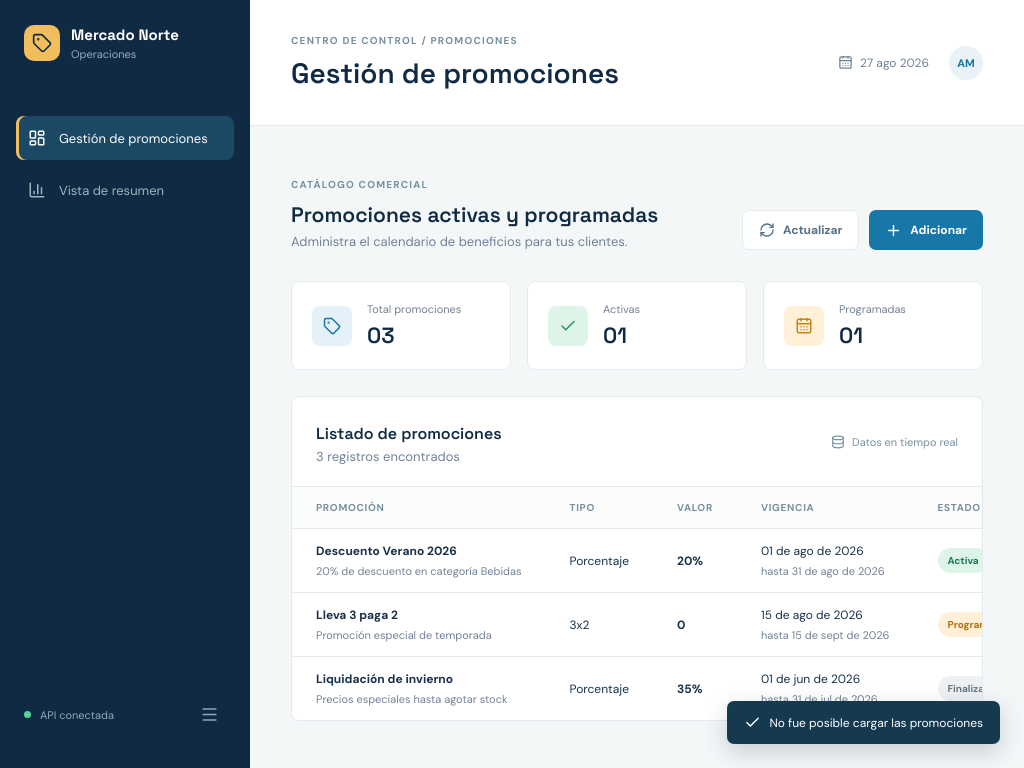
Test: App › shows required errors when saving an empty promotion
Step 1. Click the button "Adicionar" → (926, 230), box x1=869 y1=210 x2=983 y2=250
(page scrolled)
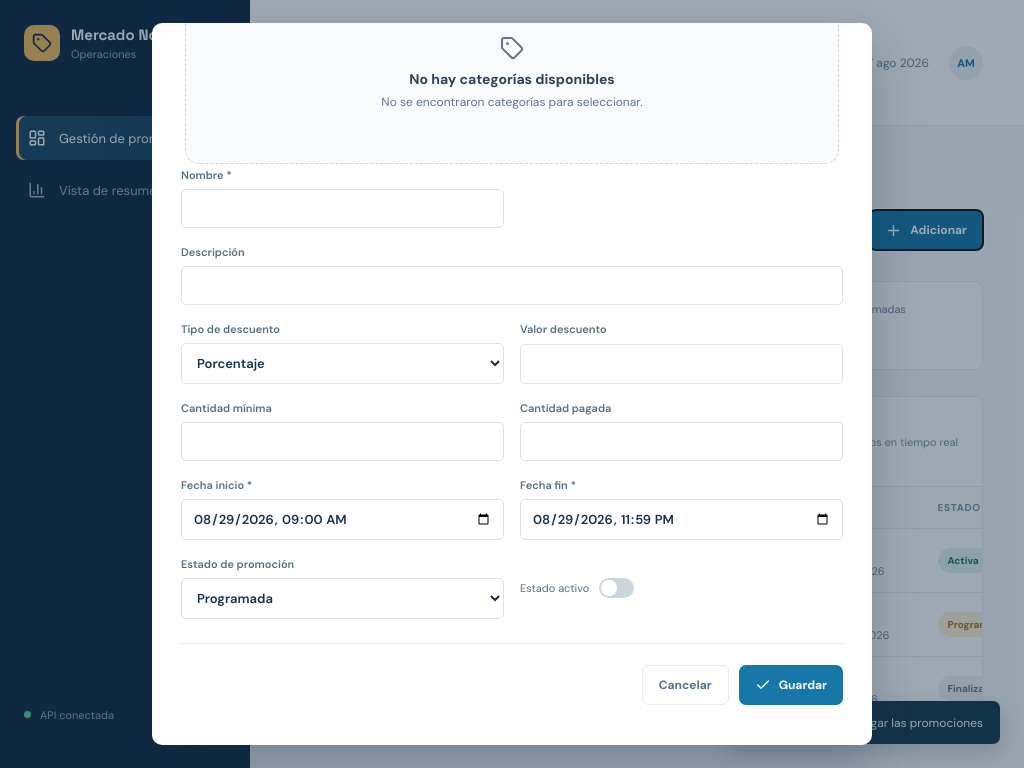
Step 2. Clear the field labelled "Fecha inicio *" → (342, 519), box x1=181 y1=499 x2=504 y2=540
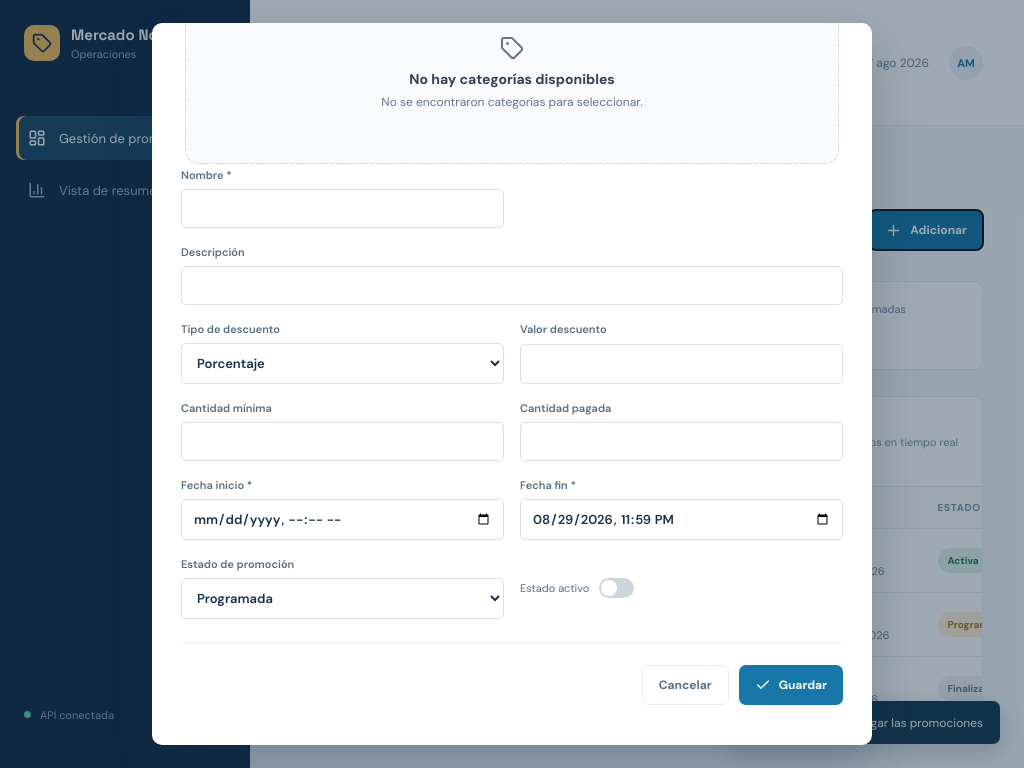
Step 3. Clear the field labelled "Fecha fin *" → (682, 519), box x1=520 y1=499 x2=843 y2=540
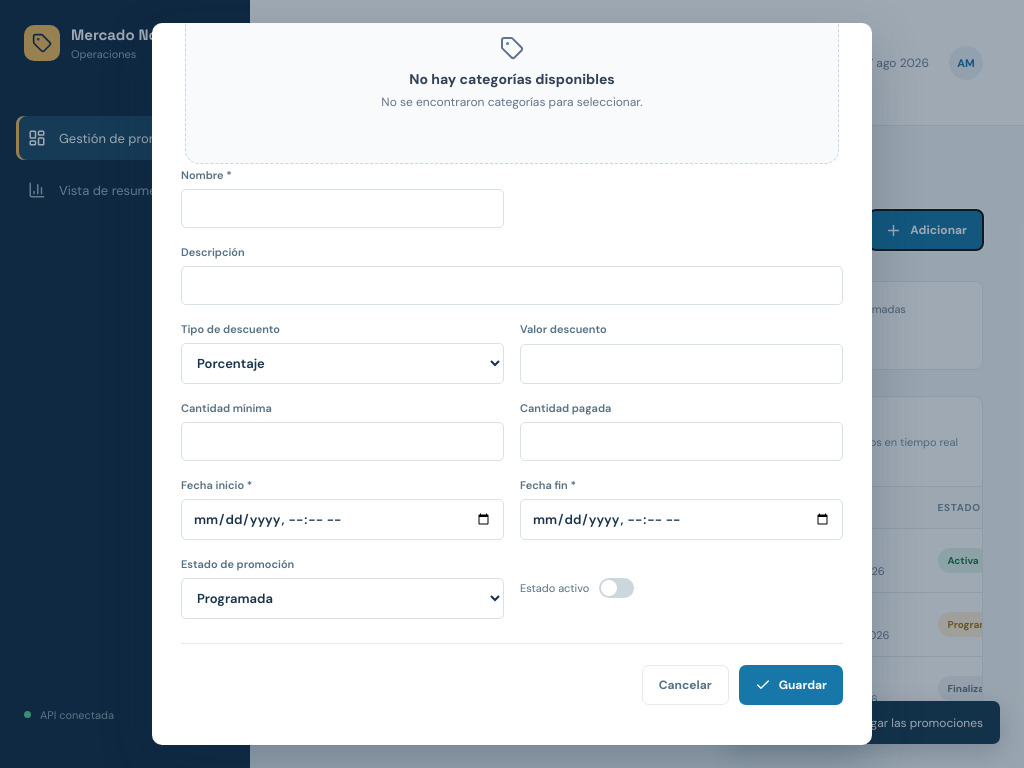
Step 4. Click the button "Guardar" → (791, 685), box x1=739 y1=665 x2=843 y2=705
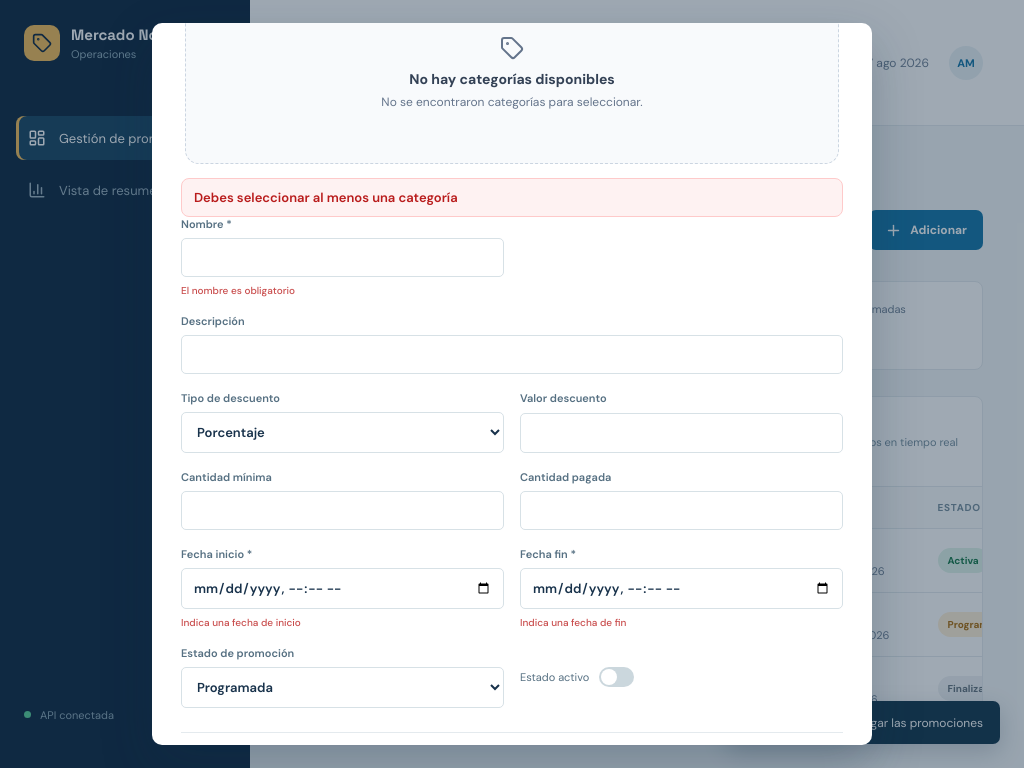
Expected: the text "El nombre es obligatorio" is shown, x1=181 y1=284 x2=295 y2=297
Expected: the text "Indica una fecha de inicio" is shown, x1=181 y1=616 x2=301 y2=629
Expected: the text "Indica una fecha de fin" is shown, x1=520 y1=616 x2=626 y2=629
